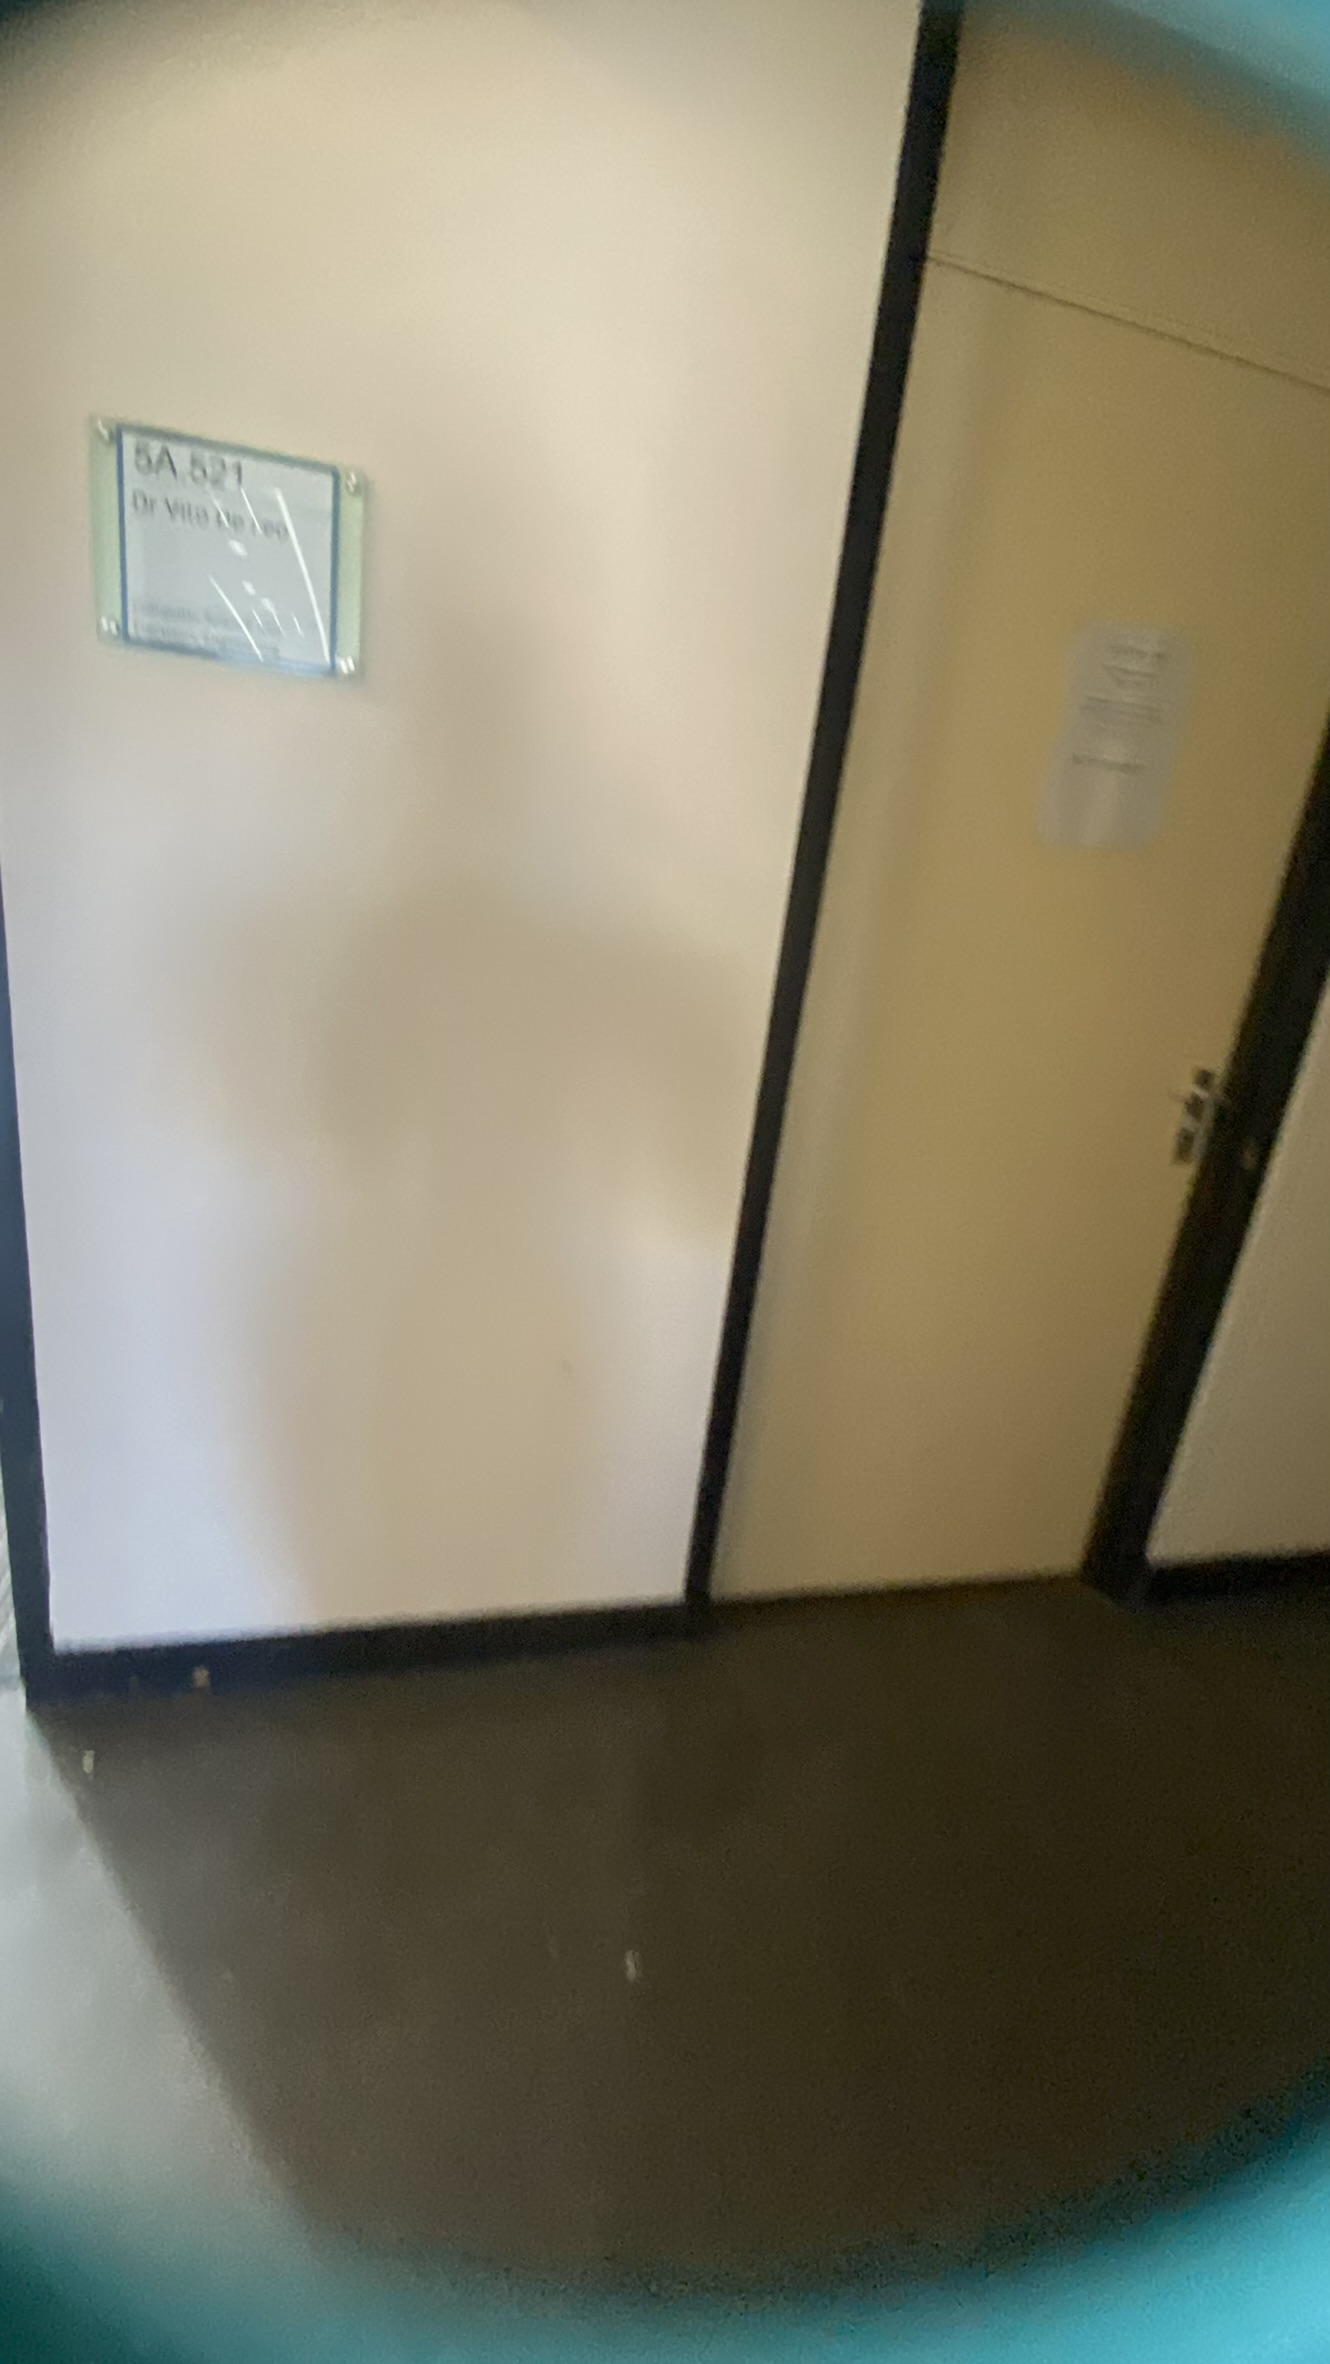door: (762, 231, 1330, 1843)
